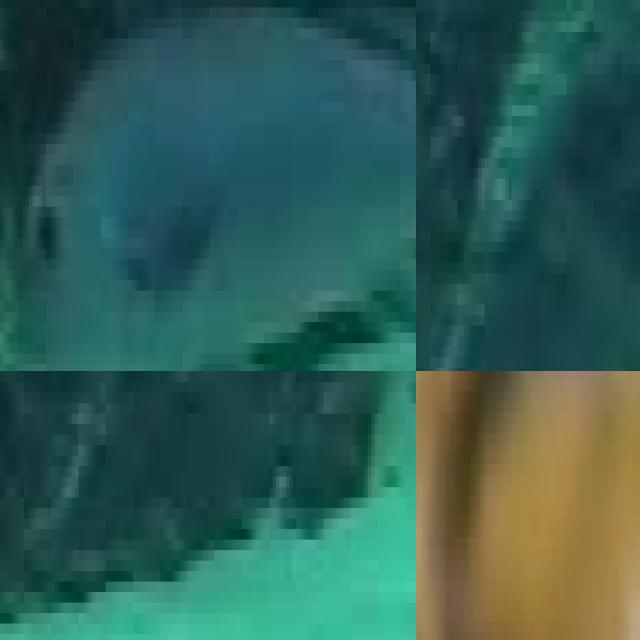fish: (0, 0, 416, 371), (416, 371, 640, 640)
